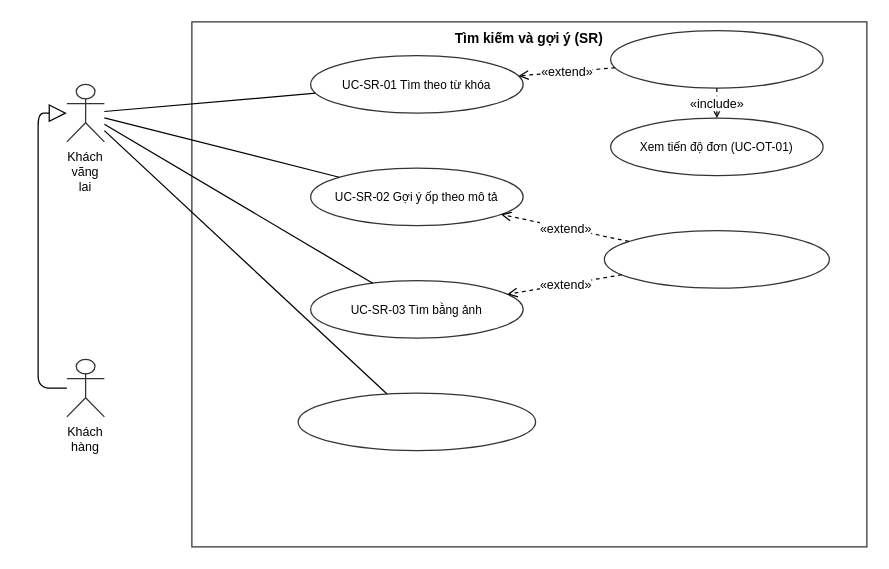
The diagram is 889 pixels wide and 569 high, and some of its shapes have lost their labels. The shapes that lost their labels are listed below. From the top down, each one's centre as x and y in pixels, then its label:
[716,58]: UC-SR-05 Mở đơn bằng mã
[716,258]: UC-SR-06 Tự thiết kế với ý tưởng
[416,421]: UC-SR-04 Xem trang kết quả, lọc, sắp xếp
